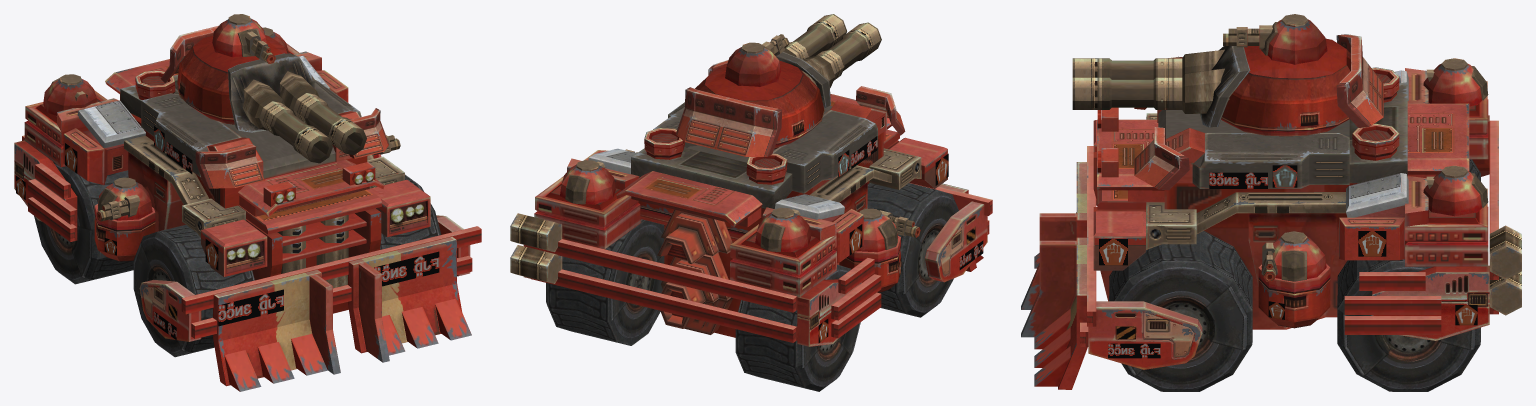
The model's file is VTBSTAH.bgf.obj.
3 views of the same model, side by side, from view 1: azimuth 30°, elevation 25°; view 2: azimuth 150°, elevation 25°; view 3: azimuth 270°, elevation 25° (orthographic). The views are drawn at different scales.
Visible parts, largest first — view 1: VI_BSTA, TURRET, R_WHEEL_A, DECALS01, R_WHEEL_B, GUN02, GUN01, BARREL01, TURRET08, TURRET07, TURRET02, L_WHEEL_A (+2 smaller); view 2: VI_BSTA, TURRET, L_WHEEL_B, R_WHEEL_A, R_WHEEL_B, TURRET06, TURRET07, TURRET08, DECALS01, GUN02, GUN01, TURRET02 (+2 smaller); view 3: VI_BSTA, L_WHEEL_A, TURRET, L_WHEEL_B, DECALS01, GUN01, TURRET06, TURRET08, TURRET07, GUN02, BARREL01, TURRET01 (+2 smaller).
Boxes of the visible parts, <box> form: VI_BSTA: <box>14,43,481,391</box>; TURRET: <box>160,25,315,132</box>; R_WHEEL_A: <box>133,225,254,357</box>; DECALS01: <box>16,126,439,339</box>; R_WHEEL_B: <box>34,162,133,284</box>; GUN02: <box>259,101,332,163</box>; GUN01: <box>293,93,366,154</box>; BARREL01: <box>242,71,319,130</box>; TURRET08: <box>212,14,266,57</box>; TURRET07: <box>43,74,97,115</box>; TURRET02: <box>97,177,152,220</box>; L_WHEEL_A: <box>380,174,441,249</box>; VI_BSTA: <box>510,60,992,346</box>; TURRET: <box>675,52,830,156</box>; L_WHEEL_B: <box>546,219,664,345</box>; R_WHEEL_A: <box>867,183,958,317</box>; R_WHEEL_B: <box>735,264,860,391</box>; TURRET06: <box>560,160,615,204</box>; TURRET07: <box>755,207,810,252</box>; TURRET08: <box>725,42,780,86</box>; DECALS01: <box>818,136,983,342</box>; GUN02: <box>816,22,881,80</box>; GUN01: <box>786,14,846,59</box>; TURRET02: <box>856,208,898,252</box>; VI_BSTA: <box>1021,56,1521,389</box>; L_WHEEL_A: <box>1109,231,1252,391</box>; TURRET: <box>1200,34,1383,136</box>; L_WHEEL_B: <box>1337,259,1480,391</box>; DECALS01: <box>1099,165,1477,358</box>; GUN01: <box>1072,77,1182,109</box>; TURRET06: <box>1423,165,1488,216</box>; TURRET08: <box>1261,14,1327,64</box>; TURRET07: <box>1423,58,1488,106</box>; GUN02: <box>1072,58,1182,79</box>; BARREL01: <box>1182,49,1229,113</box>; TURRET01: <box>1261,231,1326,281</box>.
Bounding box in the file's own units: 8.38 × 7.04 × 10.48.
Materials: 20 (20 with a texture image).
